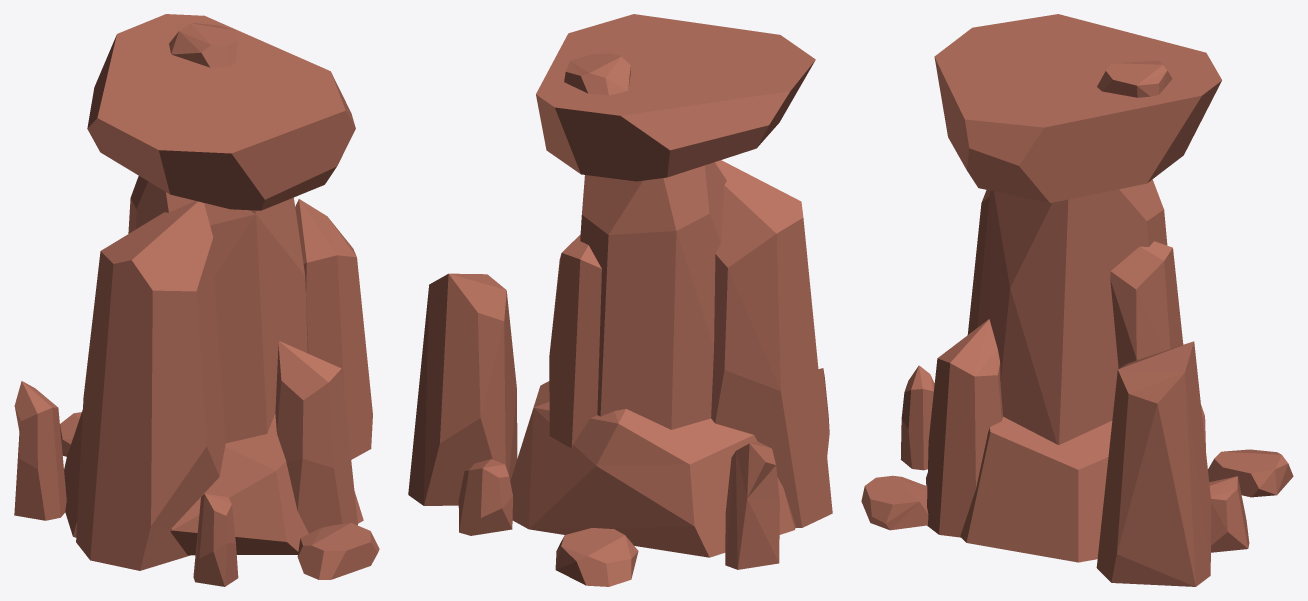
The model's file is rock_012.fbx.
3 renders of one model, left to right at view 1: azimuth 30°, elevation 25°; view 2: azimuth 150°, elevation 25°; view 3: azimuth 270°, elevation 25°, orthographic.
Visible parts, largest first — view 1: rock_012; view 2: rock_012; view 3: rock_012.
Boxes of the visible parts, bbox=[...] form: rock_012: bbox=[14, 14, 379, 586]; rock_012: bbox=[408, 14, 832, 586]; rock_012: bbox=[861, 14, 1293, 586].
Bounding box in the file's own units: 1155 × 1257 × 1423.
